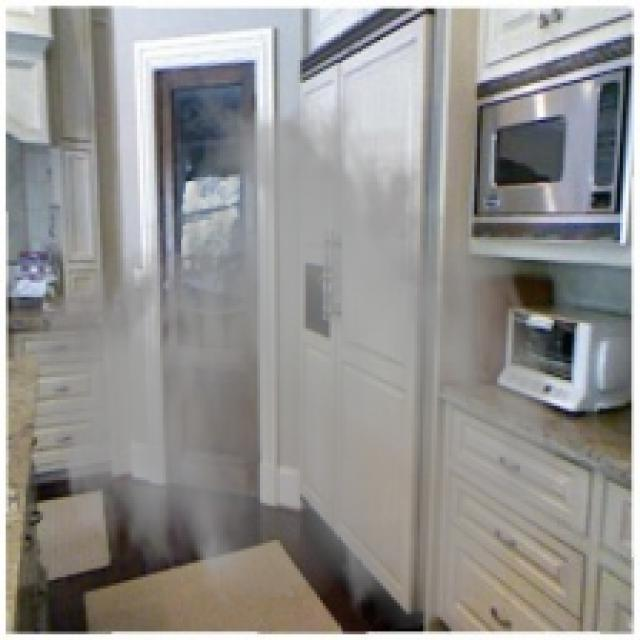smoke: (23, 77, 577, 634)
